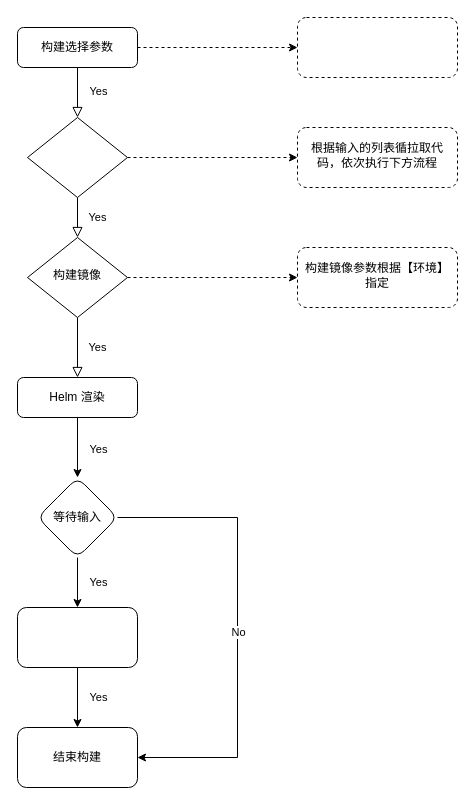
Image size: 475x805. Some labels were removed from this diagram. Here are the shapes that lost their labels. From the top down, the centre of each, then its label:
At point 377,47: "环境：k8s_env 模块：具体的项目名称".
At point 77,157: "拉取代码".
At point 77,637: "发布程序".
